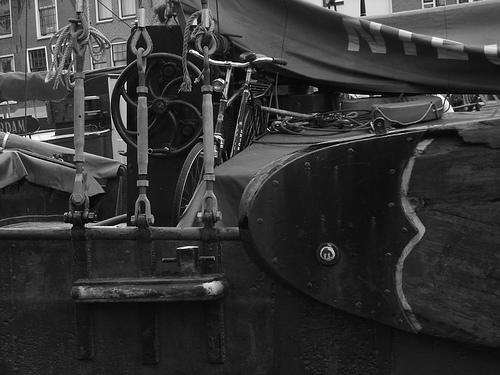bicycle: (170, 48, 292, 226)
